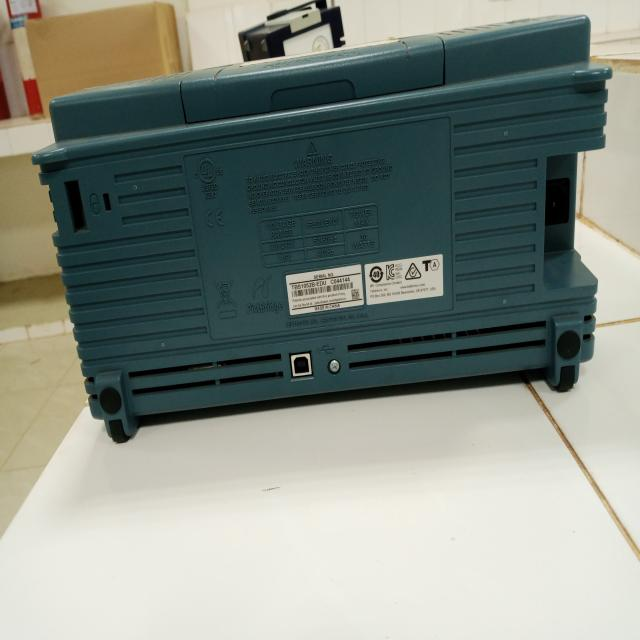Digital Oscilloscope: (17, 13, 608, 434)
